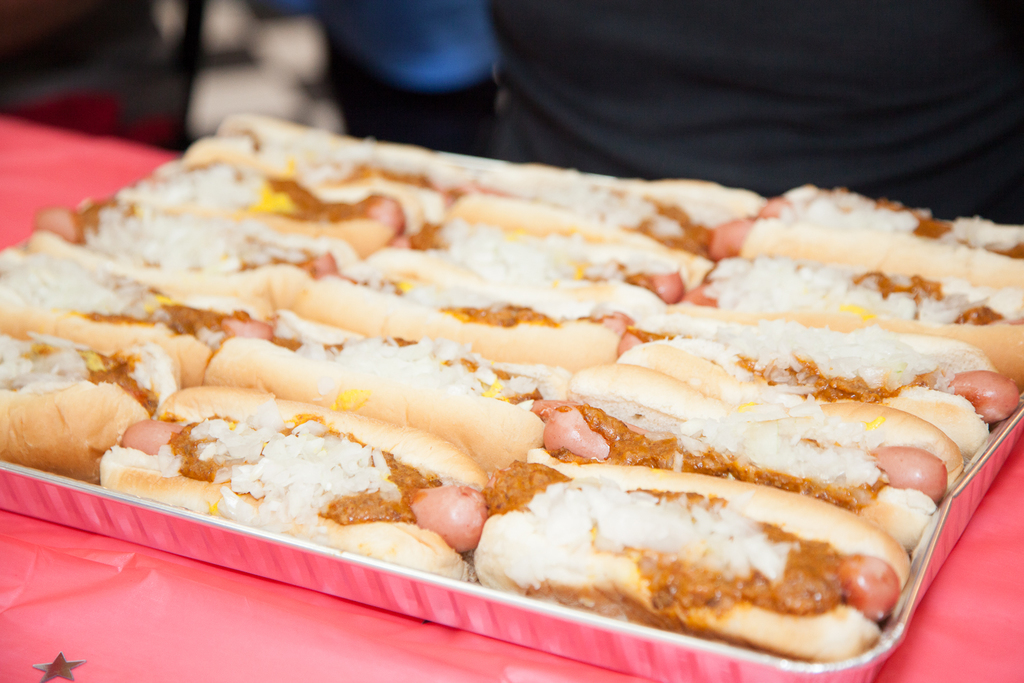hot_dog: (0, 93, 1019, 657)
